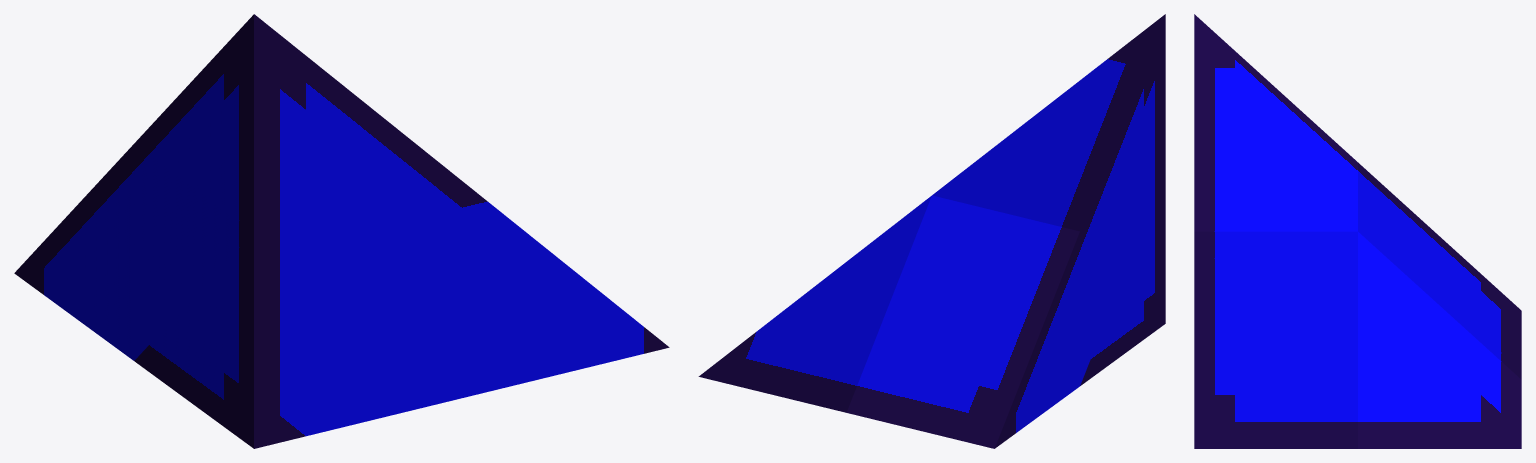
The model's file is 5_blue.obj.
3 renders of one model, left to right at view 1: azimuth 30°, elevation 25°; view 2: azimuth 150°, elevation 25°; view 3: azimuth 270°, elevation 25°, orthographic. The views are drawn at different scales.
Visible parts, largest first — view 1: 5_blue; view 2: 5_blue; view 3: 5_blue.
Boxes of the visible parts, x1,y1,x2,y2 form: 5_blue: [14, 14, 669, 448]; 5_blue: [698, 14, 1165, 448]; 5_blue: [1194, 14, 1521, 448].
Bounding box in the file's own units: 1 × 1 × 1.
1 material, 1 textured.
